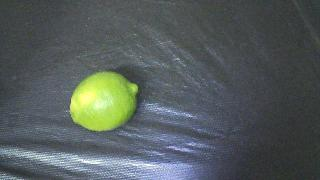LOCAL: (70, 71, 138, 131)
